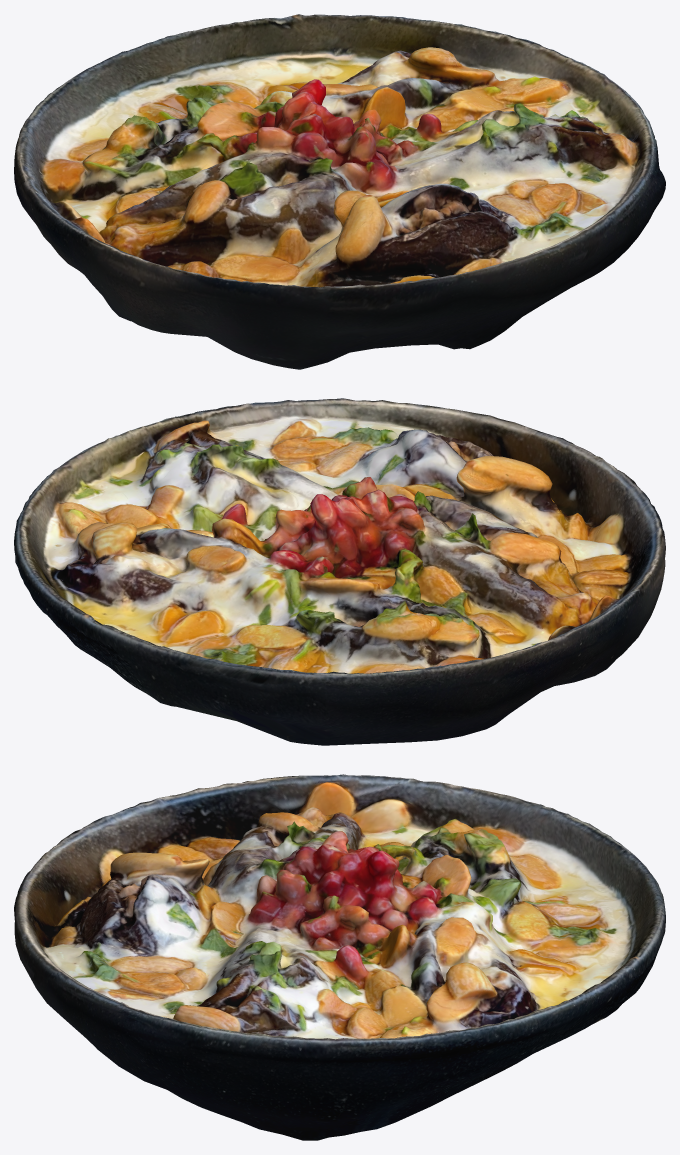
File: Fatet Makdus Breakfast.glb
3 renders of one model, top to bottom at view 1: azimuth 30°, elevation 25°; view 2: azimuth 150°, elevation 25°; view 3: azimuth 270°, elevation 25°, orthographic.
Visible parts, largest first — view 1: ObjectCapture; view 2: ObjectCapture; view 3: ObjectCapture.
Part boxes in pixels (bbox=[...]): ObjectCapture: bbox=[14, 14, 665, 369]; ObjectCapture: bbox=[14, 398, 665, 745]; ObjectCapture: bbox=[14, 774, 665, 1140].
Size of the model in its own units: 0.1848 by 0.0705 by 0.1846.
1 material, 1 textured.
